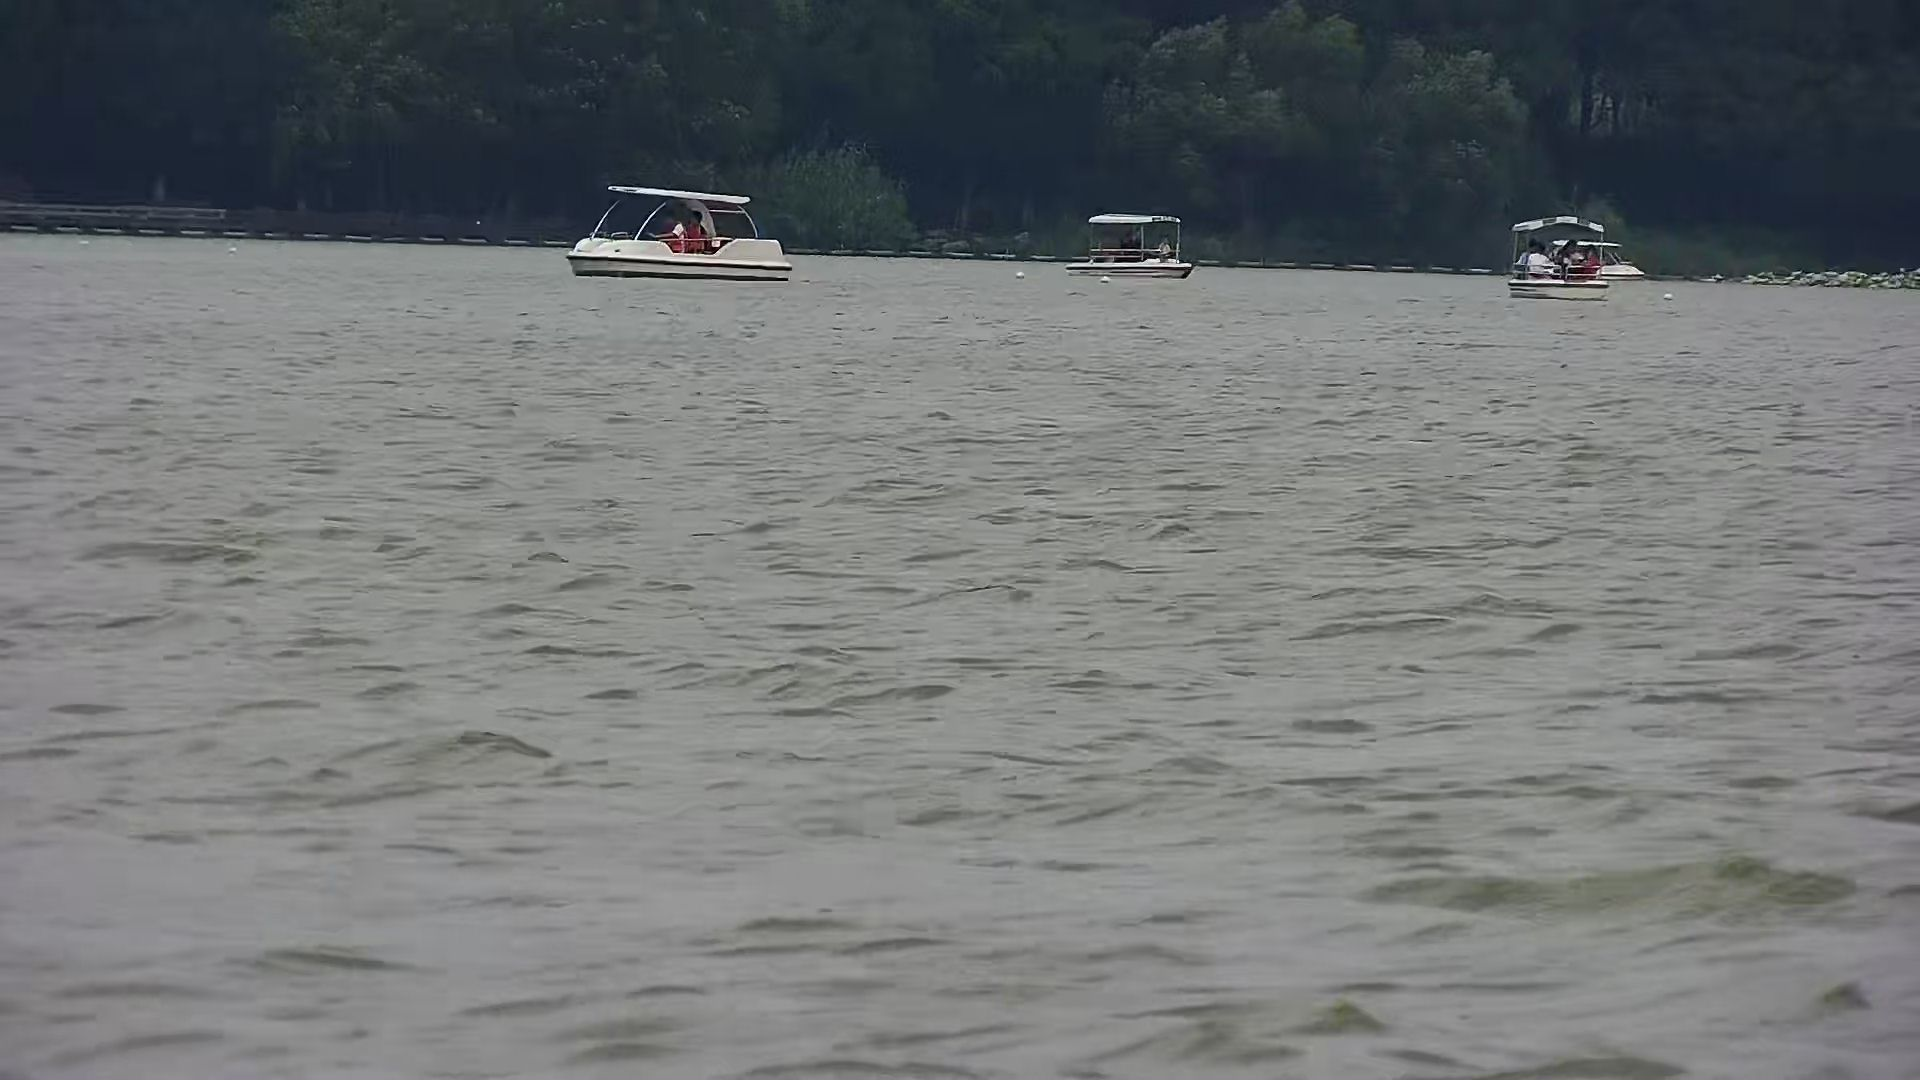boat: (567, 182, 800, 295), (1062, 207, 1196, 285), (1505, 214, 1613, 305)
